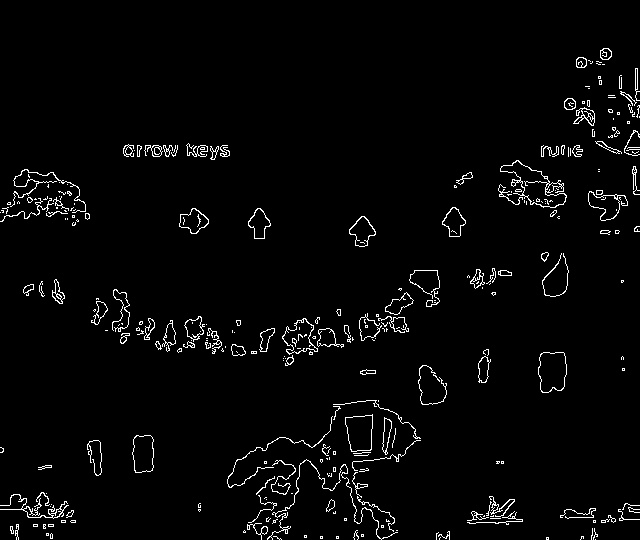right: (170, 201, 215, 242)
up: (341, 210, 386, 256), (240, 201, 281, 245), (434, 203, 476, 244)
